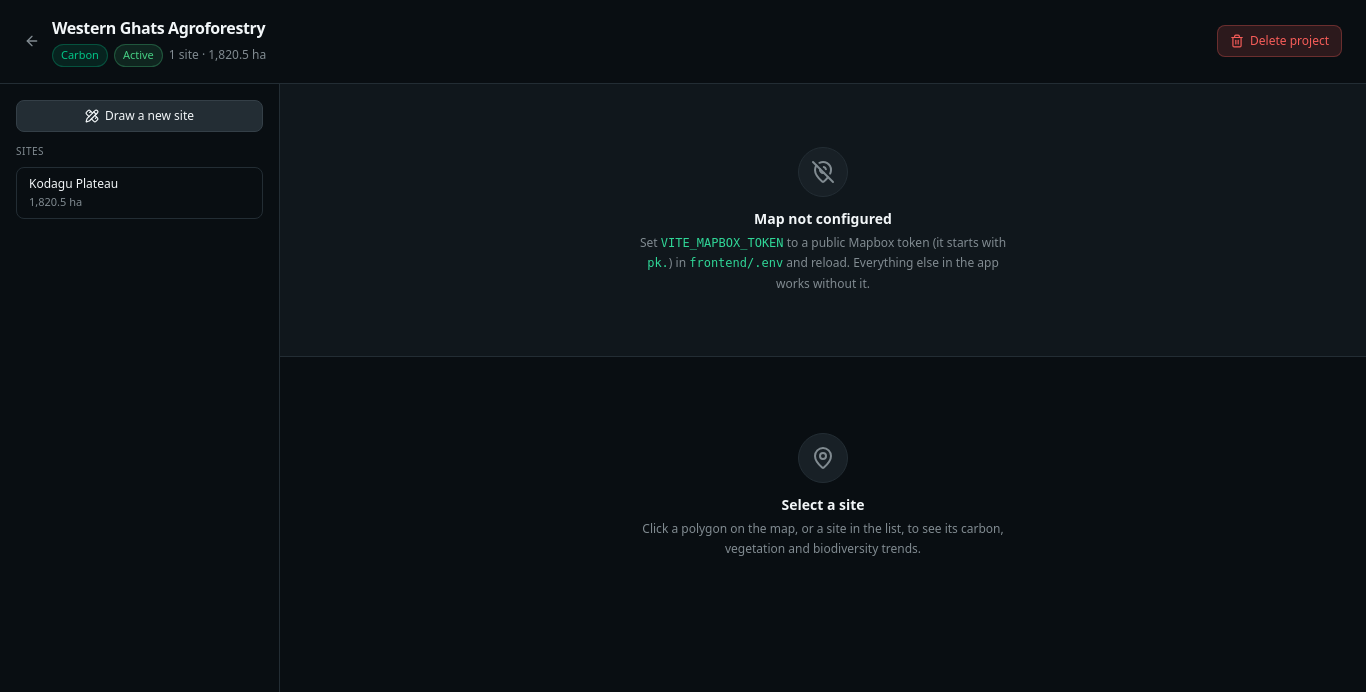
ProjectDetailPage › toggles the selection off when the same row is clicked twice
Step 1. Click the button "Kodagu Plateau 1,820.5 ha" → (140, 193), box [16,166,263,219]
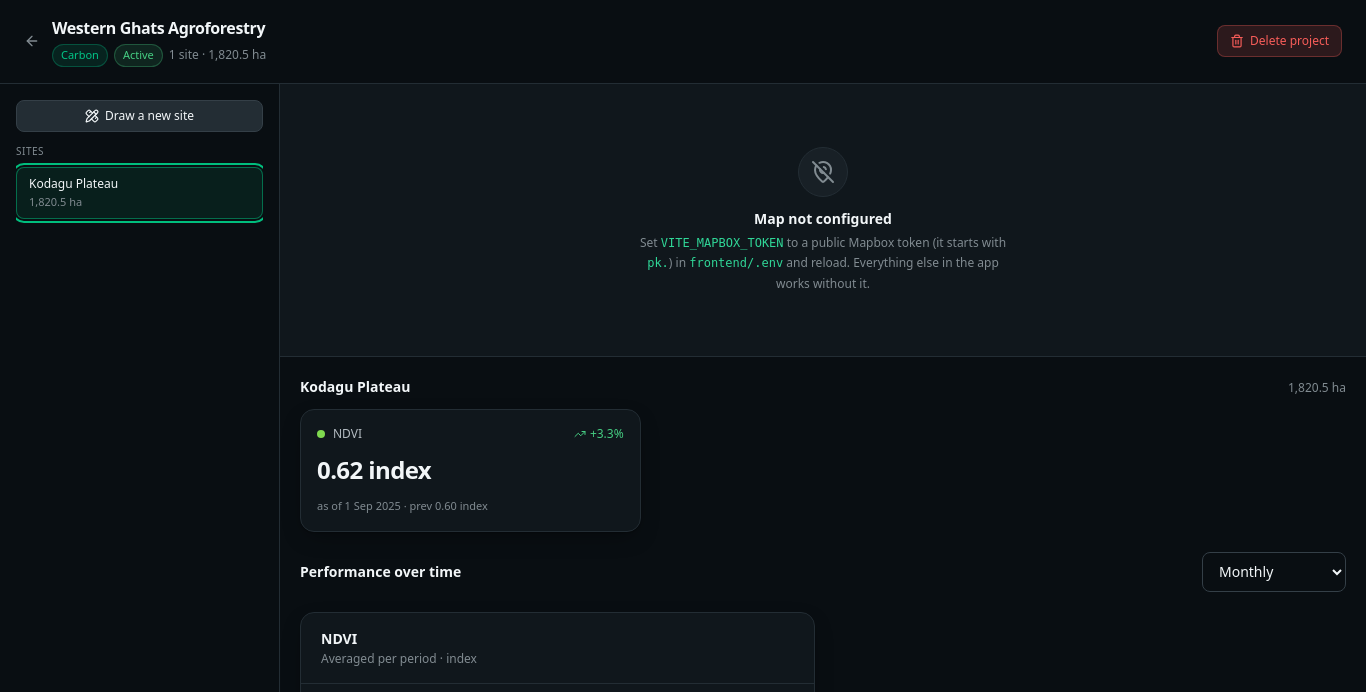
expect the heading "Performance over time" is shown: met, box [300,562,461,582]
Step 2. Click the button "Kodagu Plateau 1,820.5 ha" → (140, 193), box [16,166,263,219]
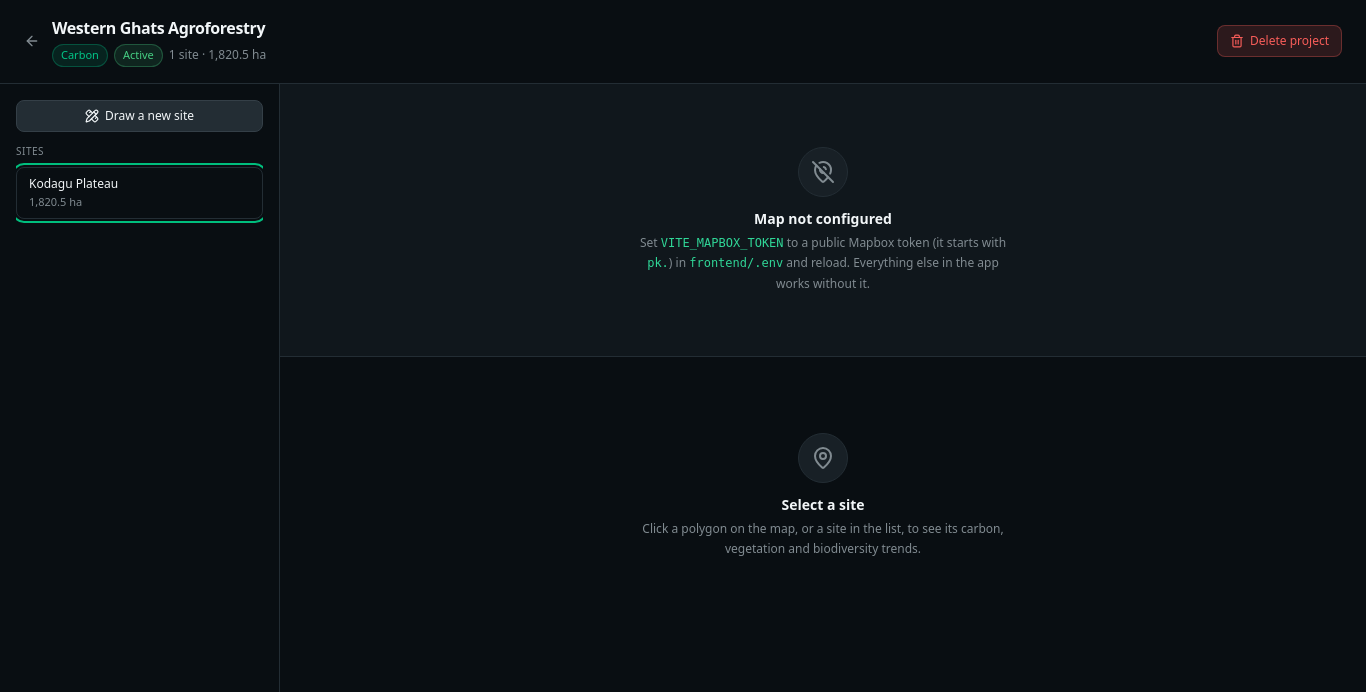
expect the heading "Select a site" is shown: met, box [781,495,864,514]
